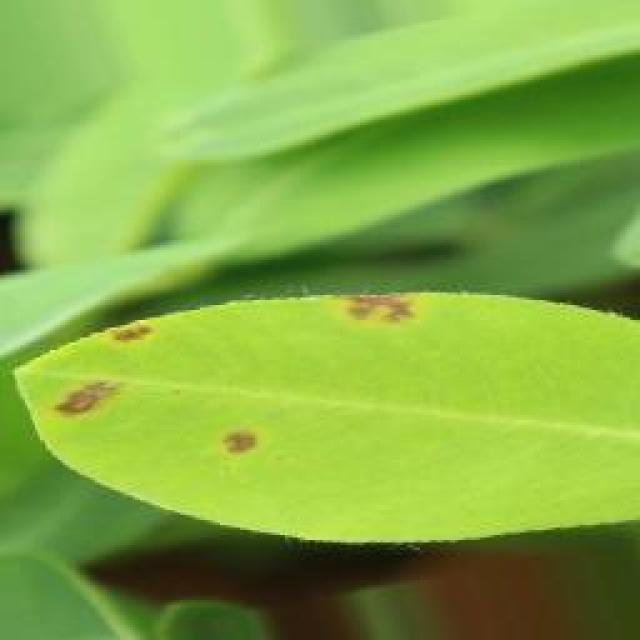Sigatoka: (320, 271, 435, 340), (39, 361, 150, 420), (101, 305, 185, 362), (182, 432, 301, 469)
